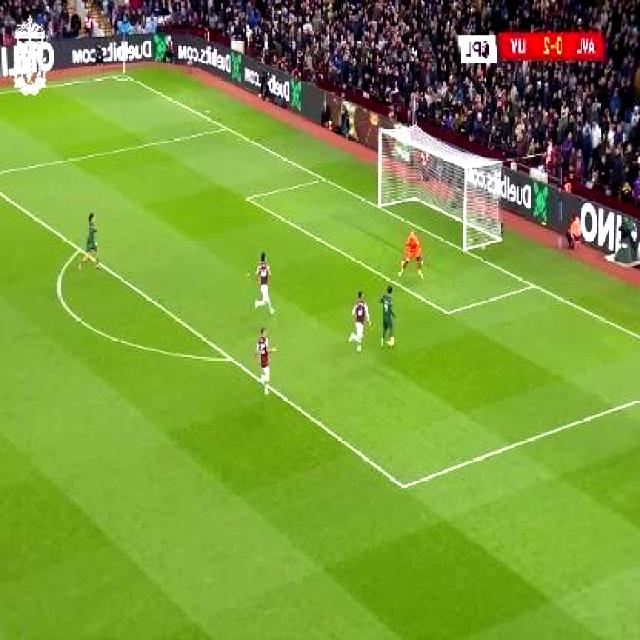bigarea_bottom_inner: (394, 471, 415, 500)
bigarea_top_outter: (218, 117, 234, 137)
bottom_arc_area_intersection: (222, 345, 242, 369)
corner: (114, 66, 134, 82)
smallarea_bottom_inner: (438, 297, 458, 326)
smallarea_bottom_outter: (524, 271, 544, 297)
smallarea_top_inner: (240, 186, 258, 209)
smallarea_top_outter: (315, 166, 334, 189)
top_arc_area_intersection: (74, 237, 91, 261)
